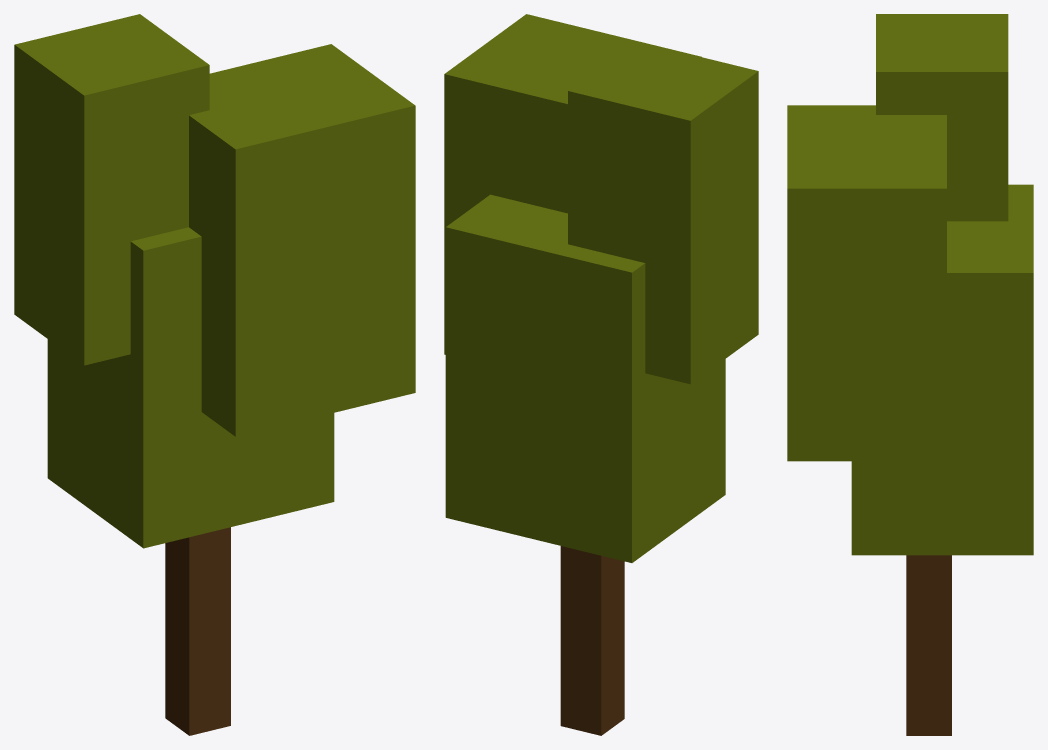
Rendered from ForestTree_02.fbx.
3 renders of one model, left to right at view 1: azimuth 30°, elevation 25°; view 2: azimuth 150°, elevation 25°; view 3: azimuth 270°, elevation 25°, orthographic. The views are drawn at different scales.
Visible parts, largest first — view 1: ForestTree_02; view 2: ForestTree_02; view 3: ForestTree_02.
Part boxes in pixels (box(x1,y1,x2,y2)): ForestTree_02: box(14, 14, 415, 735); ForestTree_02: box(444, 14, 758, 735); ForestTree_02: box(787, 14, 1033, 735).
Bounding box in the file's own units: 35.7 × 81.7 × 28.2.
